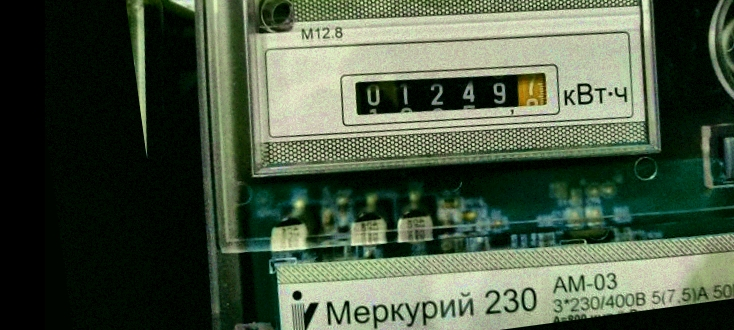0: (364, 80, 384, 108)
1: (396, 79, 413, 107)
2: (426, 81, 447, 109)
4: (459, 77, 478, 104)
7: (523, 70, 541, 98)
9: (488, 78, 509, 106)
screen: (335, 44, 567, 146)
